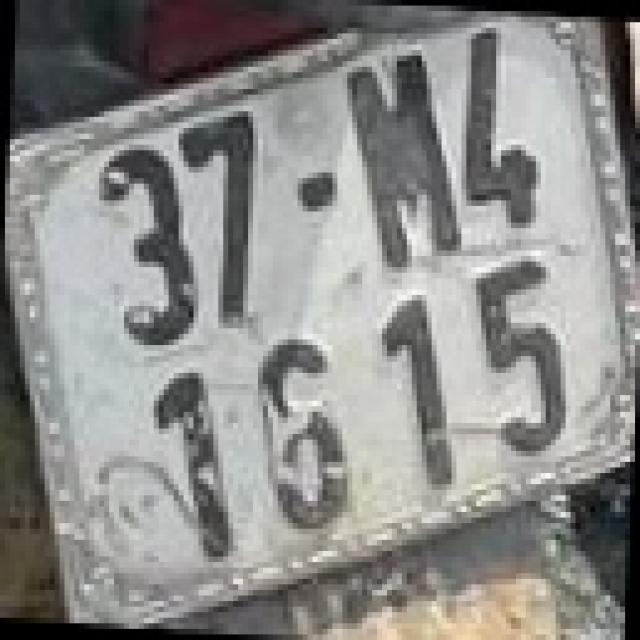1: (372, 289, 466, 506), (144, 364, 228, 565)
3: (90, 134, 204, 350)
4: (456, 22, 551, 240)
5: (472, 256, 576, 462)
6: (253, 328, 357, 529)
7: (181, 103, 275, 326)
M: (345, 56, 469, 267)
